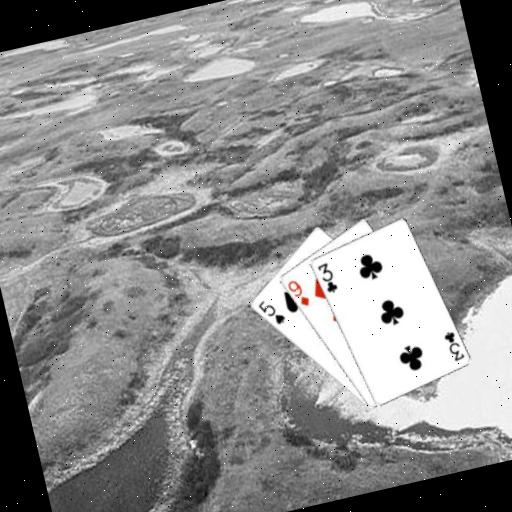3C: (440, 326, 467, 365), (313, 259, 339, 297)
5S: (254, 293, 288, 330)
9D: (284, 274, 313, 311)
